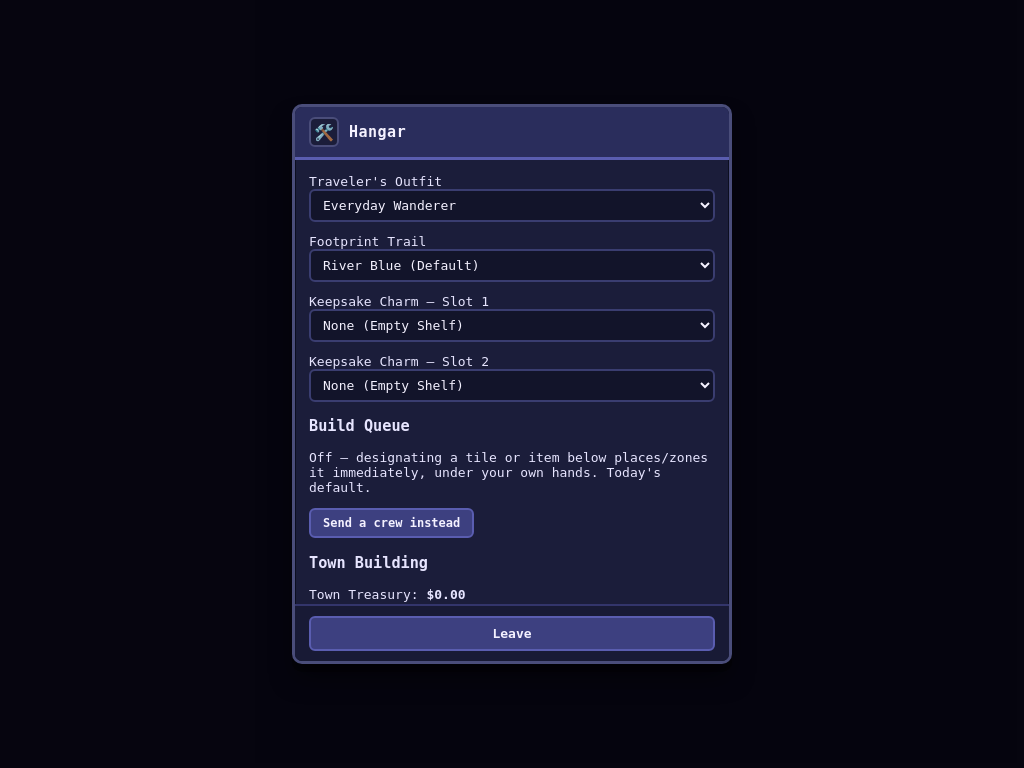
Test: HangarOverlay › Build Queue (build-queue-dispatch.md) › toggling switches the label and persists the real setting
Step 1. Click the button "Send a crew instead" → (392, 523), box [309,508,474,538]
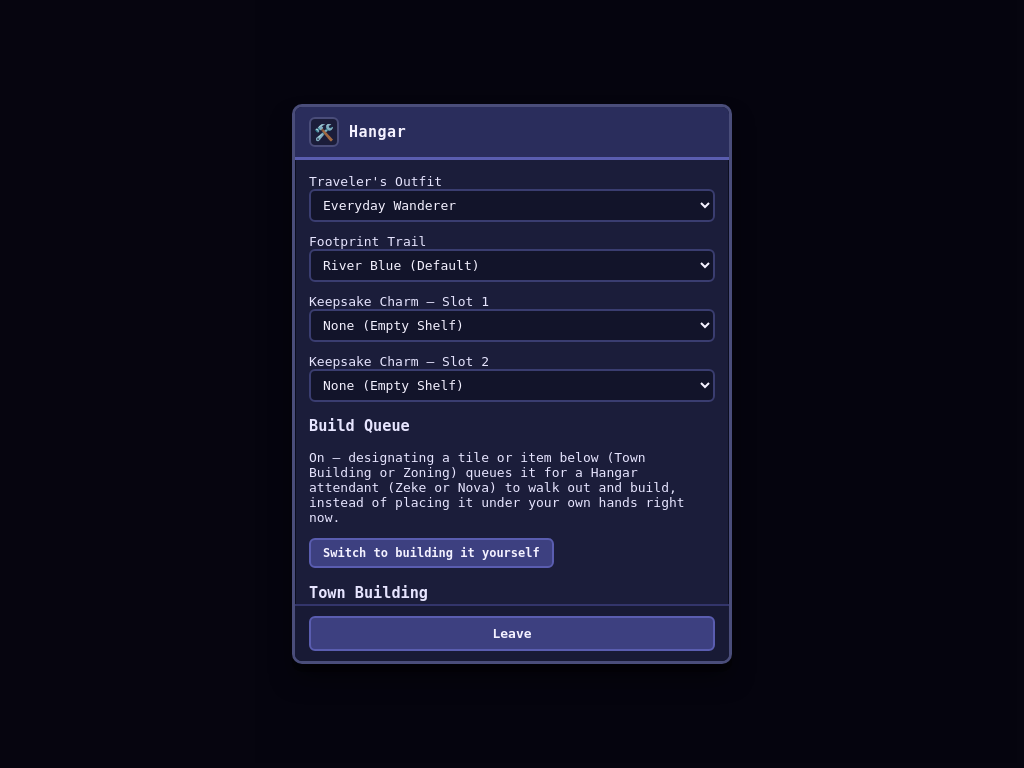
Expected: the button "Switch to building it yourself" is shown, [309,538,554,568]
